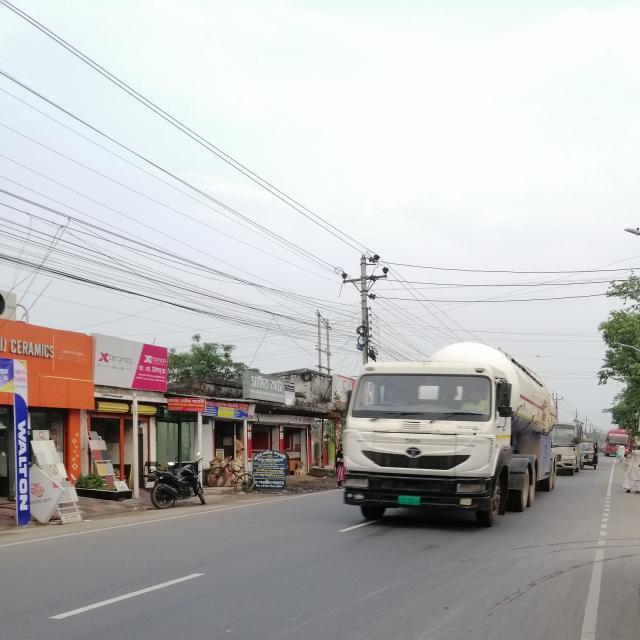Motorbike: (129, 453, 215, 518)
Truck: (334, 331, 565, 532)
